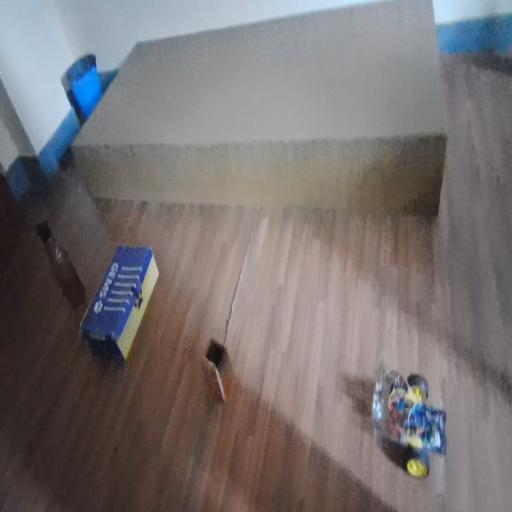Bottle: (29, 210, 97, 313)
car: (366, 348, 465, 512)
